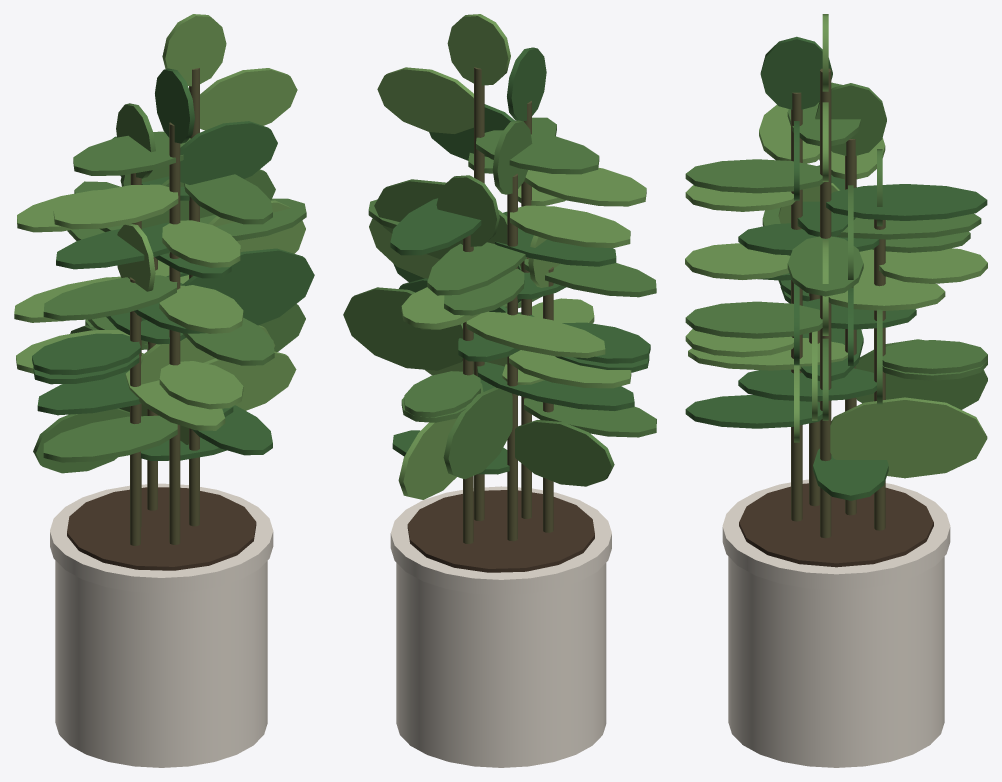
The picture shows the model from 3 angles, left to right: view 1: azimuth 30°, elevation 25°; view 2: azimuth 150°, elevation 25°; view 3: azimuth 270°, elevation 25°; orthographic projection. The views are drawn at different scales.
Visible parts, largest first — view 1: pot, leaf-4, leaf-1, leaf-2, soil, stem-1; view 2: pot, leaf-2, leaf-4, leaf-1, soil, stem-1; view 3: pot, leaf-4, leaf-2, leaf-1, soil, stem-1.
Part boxes in pixels (left/top/right/bottom): pot: left=50, top=483, right=273, bottom=767; leaf-4: left=14, top=14, right=305, bottom=444; leaf-1: left=32, top=68, right=314, bottom=460; leaf-2: left=33, top=103, right=306, bottom=473; soil: left=67, top=487, right=256, bottom=570; stem-1: left=130, top=68, right=199, bottom=545; pot: left=390, top=486, right=611, bottom=767; leaf-2: left=343, top=117, right=656, bottom=486; leaf-4: left=369, top=14, right=646, bottom=499; leaf-1: left=390, top=47, right=650, bottom=474; soil: left=407, top=490, right=594, bottom=572; stem-1: left=463, top=67, right=553, bottom=543; pot: left=722, top=479, right=950, bottom=767; leaf-4: left=685, top=14, right=987, bottom=478; leaf-2: left=685, top=82, right=987, bottom=420; leaf-1: left=685, top=36, right=987, bottom=500; soil: left=739, top=483, right=933, bottom=567; stem-1: left=791, top=68, right=885, bottom=538.
Size of the model in its own units: 0.45 by 1.1 by 0.42.
